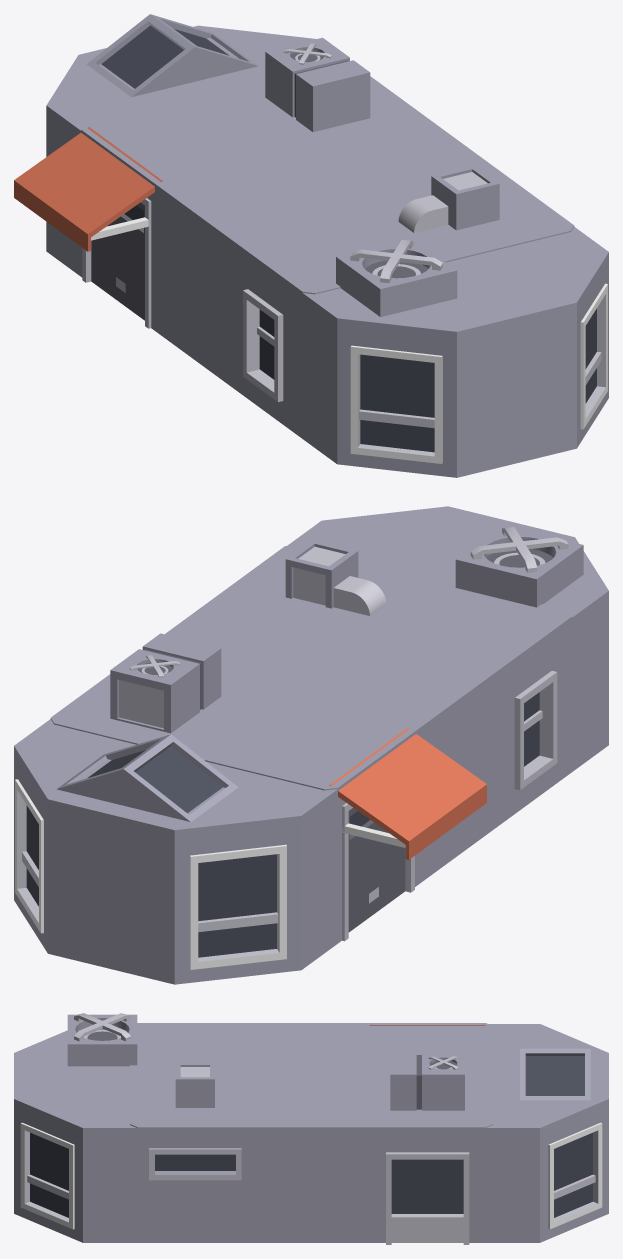
File: simple_house2_model.fbx
3 renders of one model, top to bottom at view 1: azimuth 30°, elevation 25°; view 2: azimuth 150°, elevation 25°; view 3: azimuth 270°, elevation 25°, orthographic. The views are drawn at different scales.
Parts seen in each view (by area): view 1: wall_cornerDiagonalWindow_9, wall_cornerDiagonalWindow_3, roof_square_13, roof_square_15, wall_window_8, roof_square_11, wall_straight_7, floor_corner_19, awning_singleTone%_20, roof_square_14, roof_windowGlass%_24, detail_airLarge_22 (+9 smaller); view 2: wall_cornerDiagonalWindow_5, wall_cornerDiagonalWindow_2, roof_square_13, roof_square_14, roof_square_15, wall_window_8, awning_singleTone%_20, roof_windowGlass%_24, roof_square_11, detail_airLarge_22, floor_corner_17, floor_corner_19 (+9 smaller); view 3: wall_cornerDiagonalWindow_2, wall_cornerDiagonalWindow_3, wall_windowStore_1, wall_straight_0, wall_windowFactory_4, roof_square_11, roof_square_13, roof_square_12, floor_corner_19, roof_square_14, roof_square_10, roof_square_15 (+7 smaller).
Boxes of the visible parts, left/top/right/bottom form: wall_cornerDiagonalWindow_9: left=302, top=305, right=516, bottom=477; wall_cornerDiagonalWindow_3: left=517, top=264, right=608, bottom=462; roof_square_13: left=155, top=151, right=358, bottom=250; roof_square_15: left=81, top=93, right=282, bottom=196; wall_window_8: left=228, top=251, right=302, bottom=438; roof_square_11: left=283, top=117, right=500, bottom=206; wall_straight_7: left=155, top=197, right=228, bottom=384; floor_corner_19: left=446, top=227, right=608, bottom=329; awning_singleTone%_20: left=14, top=127, right=162, bottom=251; roof_square_14: left=228, top=207, right=445, bottom=304; roof_windowGlass%_24: left=86, top=14, right=258, bottom=97; detail_airLarge_22: left=265, top=37, right=370, bottom=131; wall_cornerDiagonalWindow_5: left=111, top=802, right=337, bottom=984; wall_cornerDiagonalWindow_2: left=14, top=759, right=111, bottom=968; roof_square_13: left=264, top=636, right=494, bottom=738; roof_square_14: left=342, top=577, right=572, bottom=687; roof_square_15: left=198, top=694, right=416, bottom=801; wall_window_8: left=494, top=631, right=572, bottom=828; awning_singleTone%_20: left=329, top=728, right=486, bottom=859; roof_windowGlass%_24: left=57, top=734, right=238, bottom=821; roof_square_11: left=165, top=602, right=358, bottom=697; detail_airLarge_22: left=110, top=633, right=221, bottom=733; floor_corner_17: left=110, top=762, right=337, bottom=842; floor_corner_19: left=287, top=506, right=511, bottom=579; wall_cornerDiagonalWindow_2: left=485, top=1108, right=608, bottom=1242; wall_cornerDiagonalWindow_3: left=14, top=1108, right=137, bottom=1242; wall_windowStore_1: left=369, top=1137, right=485, bottom=1244; wall_straight_0: left=253, top=1137, right=369, bottom=1242; wall_windowFactory_4: left=137, top=1137, right=253, bottom=1242; roof_square_11: left=246, top=1072, right=376, bottom=1137; roof_square_13: left=246, top=1023, right=376, bottom=1077; roof_square_12: left=130, top=1072, right=260, bottom=1137; floor_corner_19: left=14, top=1073, right=137, bottom=1137; roof_square_14: left=130, top=1023, right=260, bottom=1077; roof_square_10: left=362, top=1072, right=492, bottom=1137; roof_square_15: left=362, top=1023, right=492, bottom=1077.
Size of the model in its own units: 26.89 by 14.61 by 51.25.
